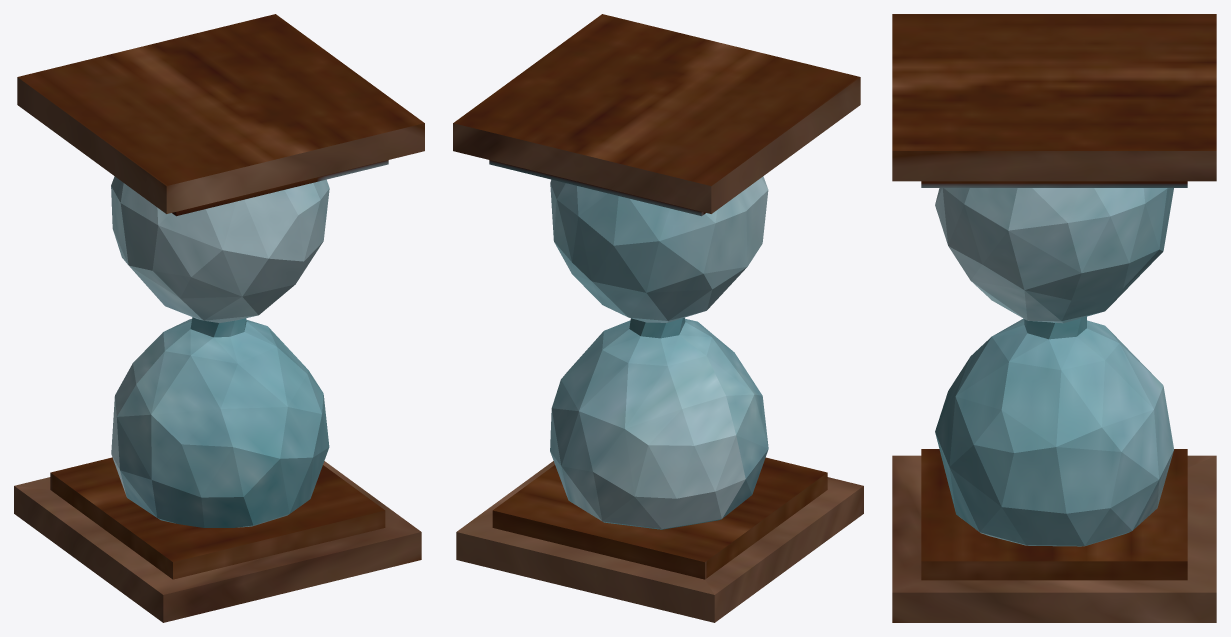
File: Ampulheta_AMULETO 1.fbx
3 renders of one model, left to right at view 1: azimuth 30°, elevation 25°; view 2: azimuth 150°, elevation 25°; view 3: azimuth 270°, elevation 25°, orthographic. The views are drawn at different scales.
Parts seen in each view (by area): view 1: Ampulheta; view 2: Ampulheta; view 3: Ampulheta.
Boxes of the visible parts, x1,y1,x2,y2 form: Ampulheta: [14, 14, 424, 622]; Ampulheta: [453, 14, 863, 622]; Ampulheta: [892, 14, 1216, 622].
Size of the model in its own units: 232 by 369 by 229.
1 material, 1 textured.
